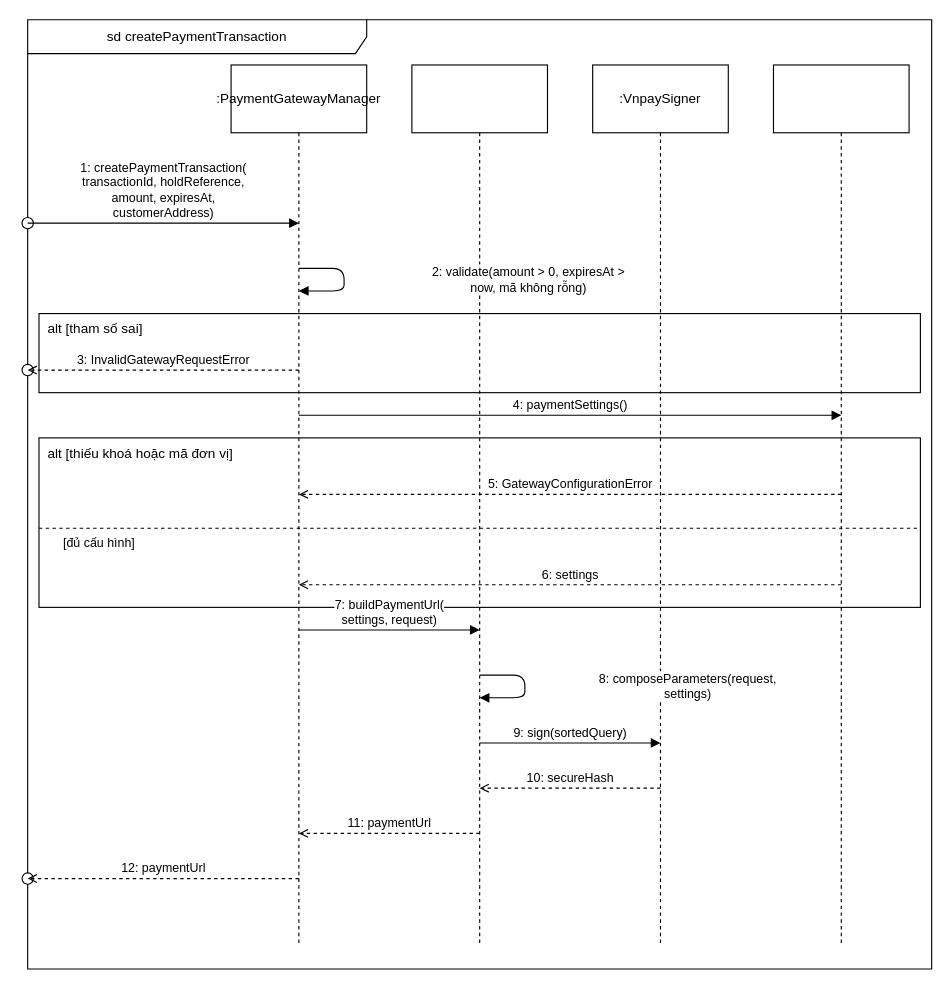
Some shapes in this 951 by 989 pixel diagram are drawn without their labels. Each missing label, with the box of its shape:
:GatewayConfig: (772, 64, 909, 946)
:VnpayUrlBuilder: (411, 64, 547, 946)
